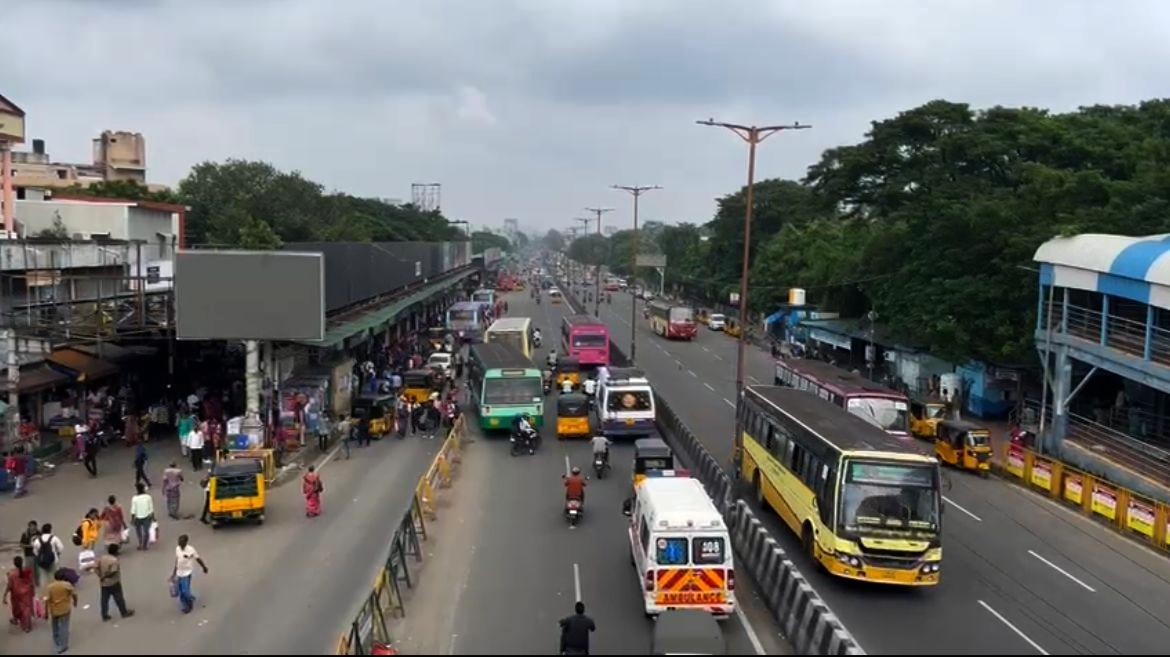ambulance: (631, 465, 742, 622)
